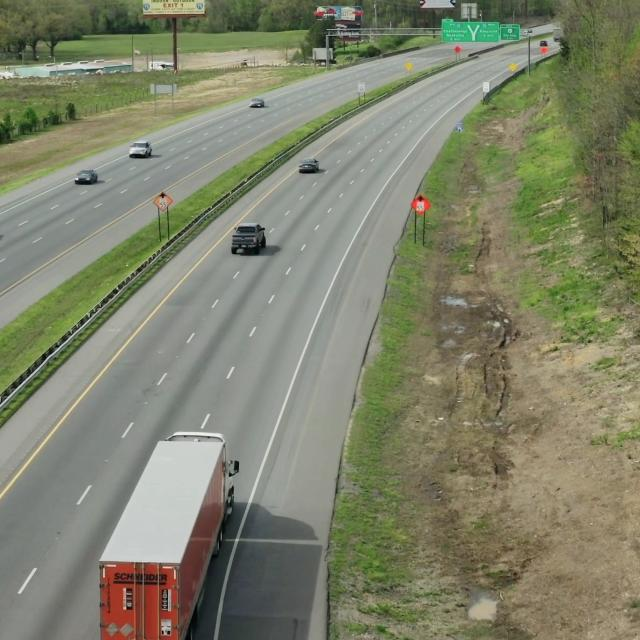Car: (97, 426, 244, 640), (225, 219, 272, 255), (126, 138, 158, 161), (296, 156, 322, 175), (75, 167, 99, 187)
